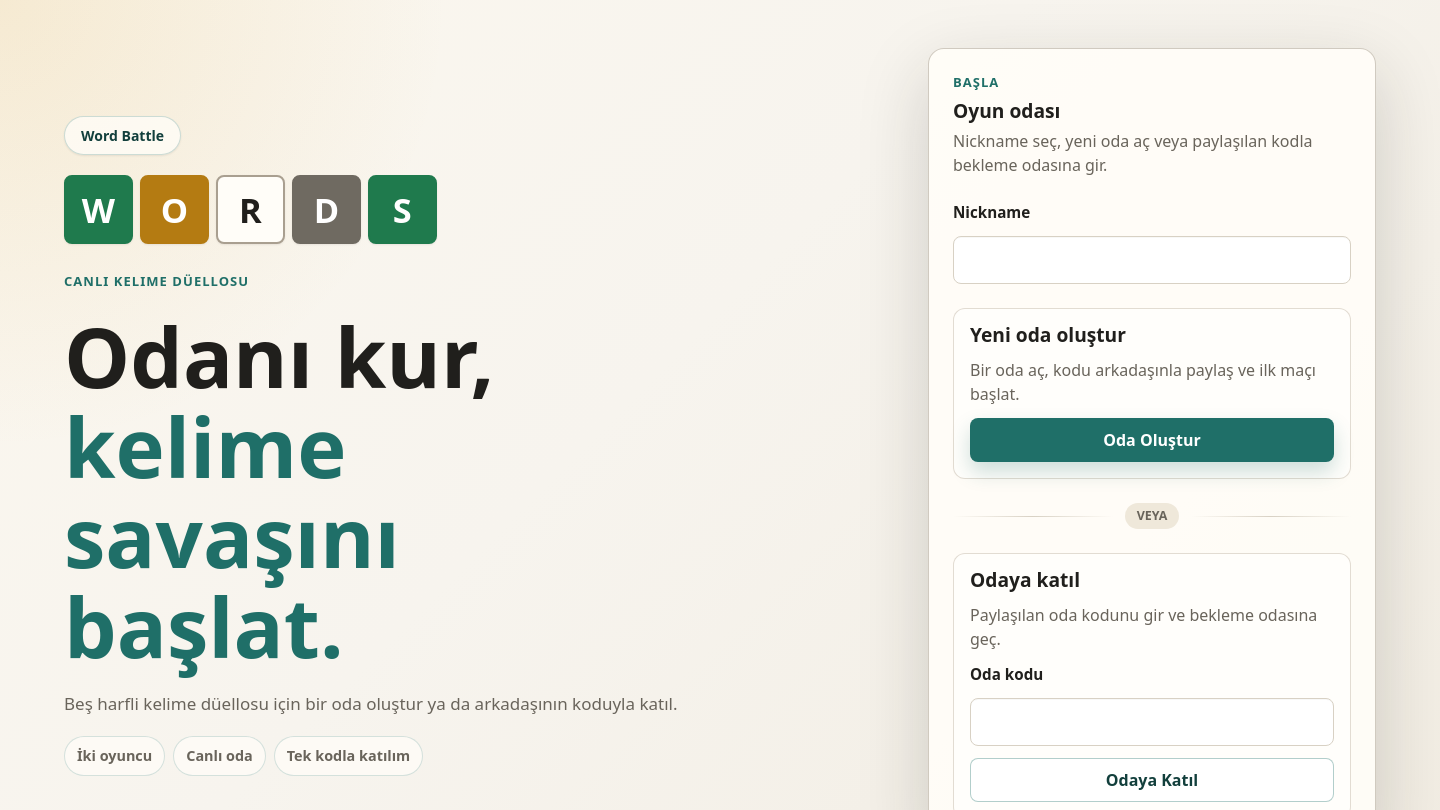
Test: HomePage › shows a friendly backend error near the join form
Type "Bora" into the field labelled "Nickname" at (1152, 260), box [953,236,1351,284]
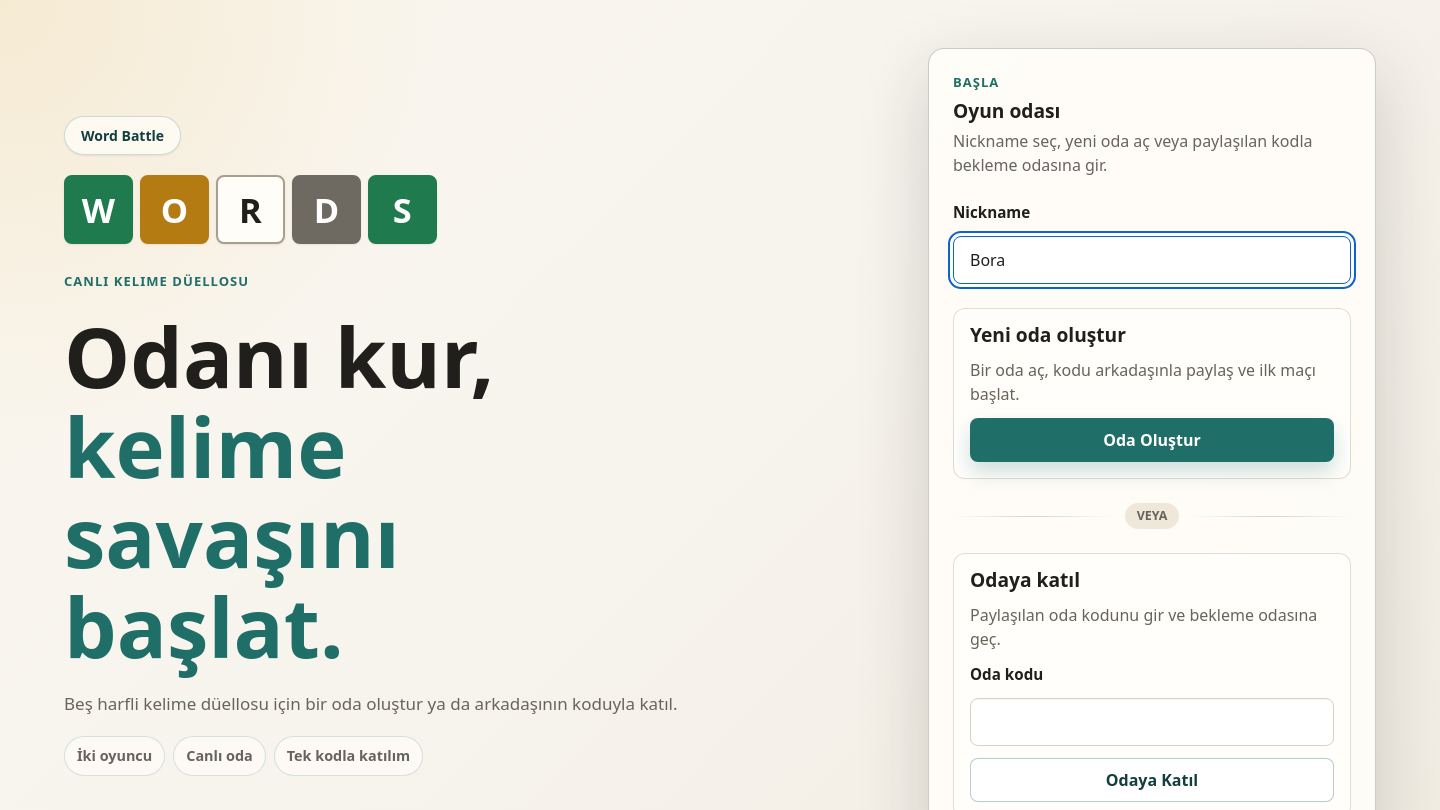
Type "ABC123" into the field labelled "Oda kodu" at (1152, 722), box [970,698,1334,746]
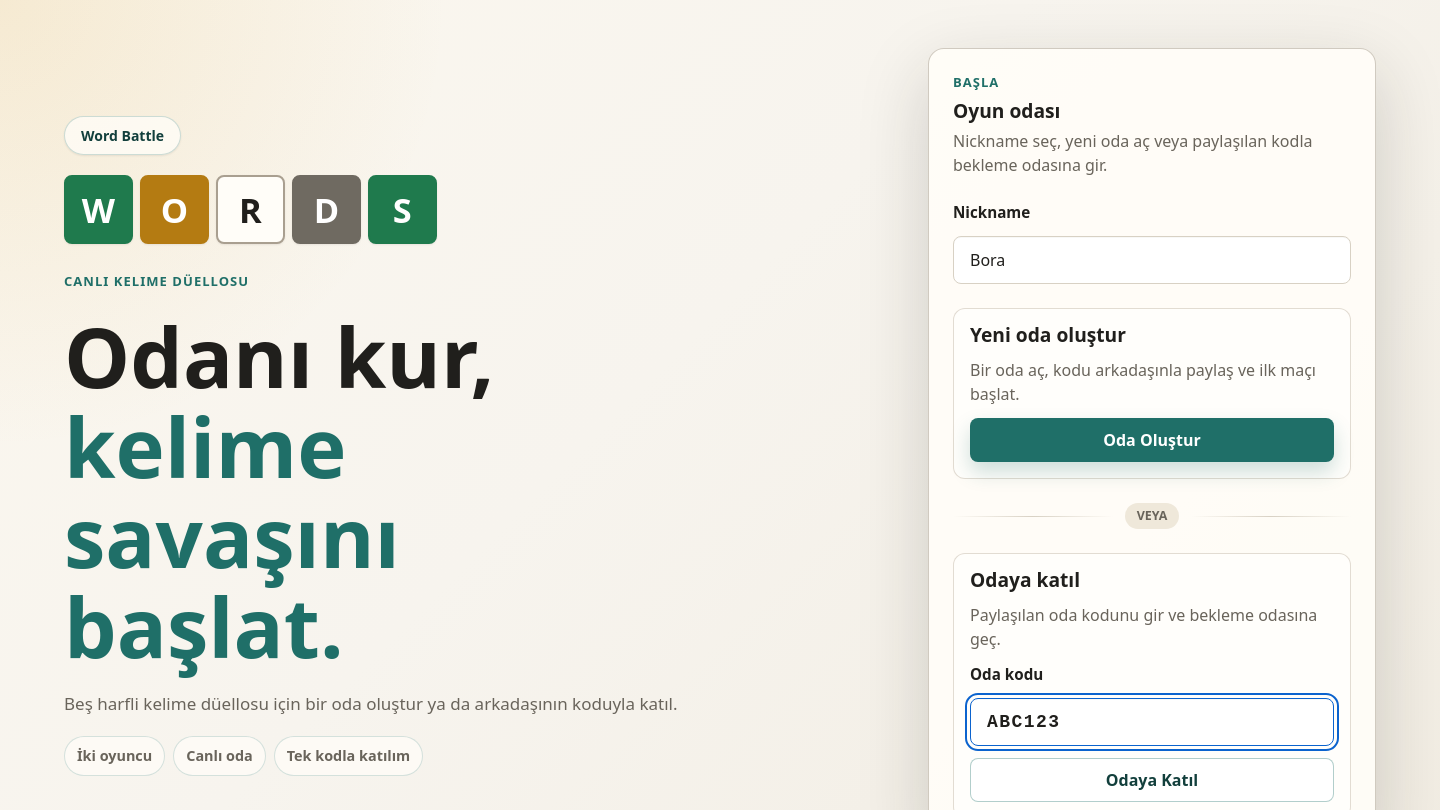
Click the button "Odaya Katıl" at (1152, 780), box [970,758,1334,802]
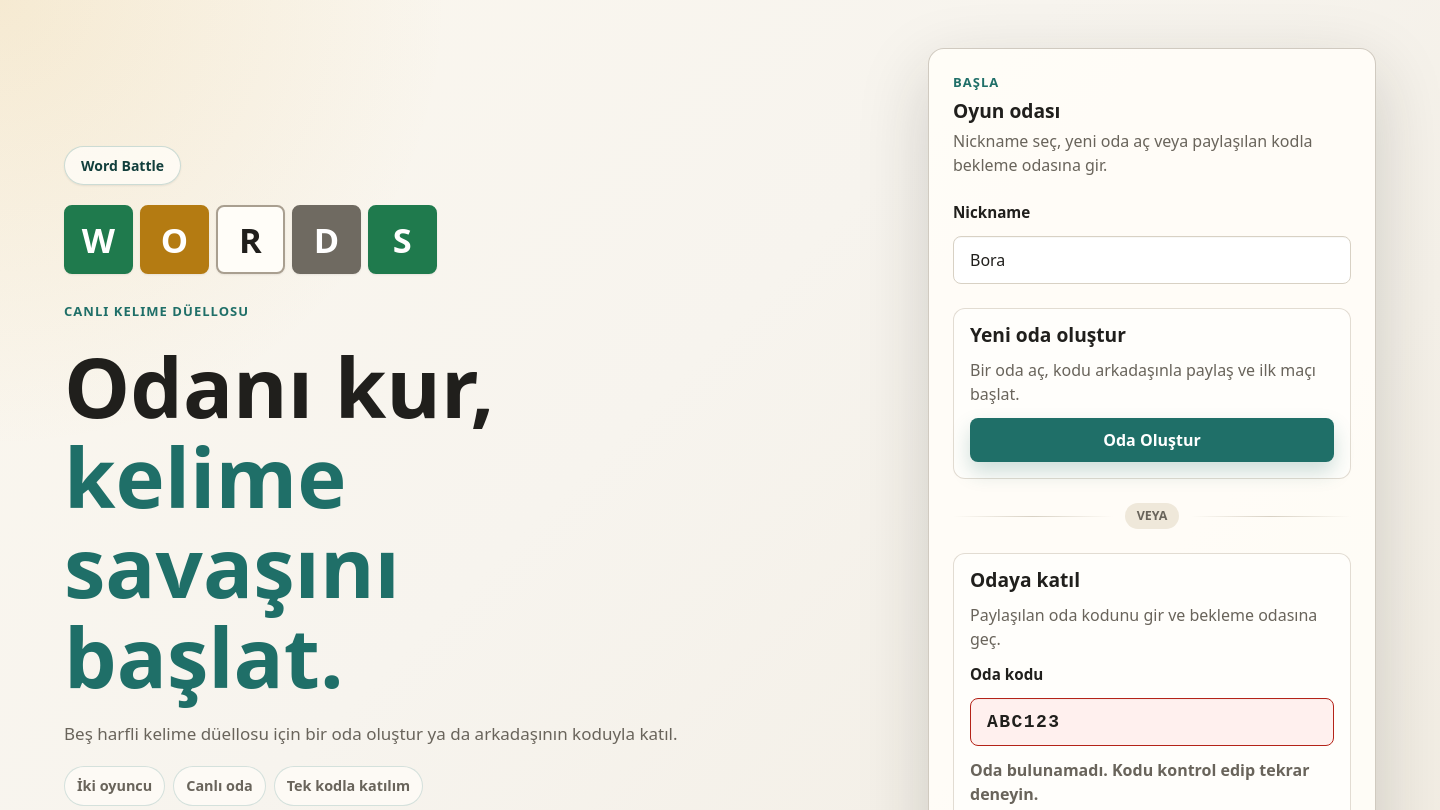
Check: the text "Oda bulunamadı. Kodu kontrol edip tekrar deneyin." is shown, box [970,758,1334,806]
